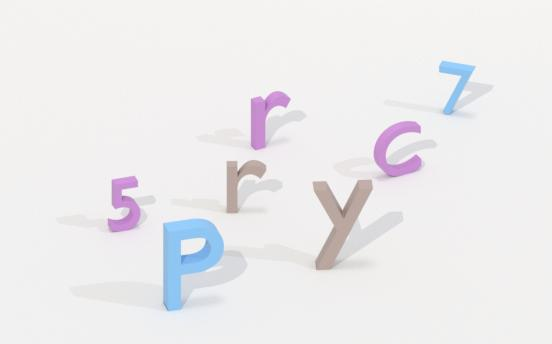5: (106, 175, 142, 236)
7: (435, 57, 479, 115)
R: (247, 87, 292, 153), (224, 159, 269, 216)
Y: (308, 178, 374, 273)
c: (371, 116, 429, 180)
p: (158, 219, 223, 311)
